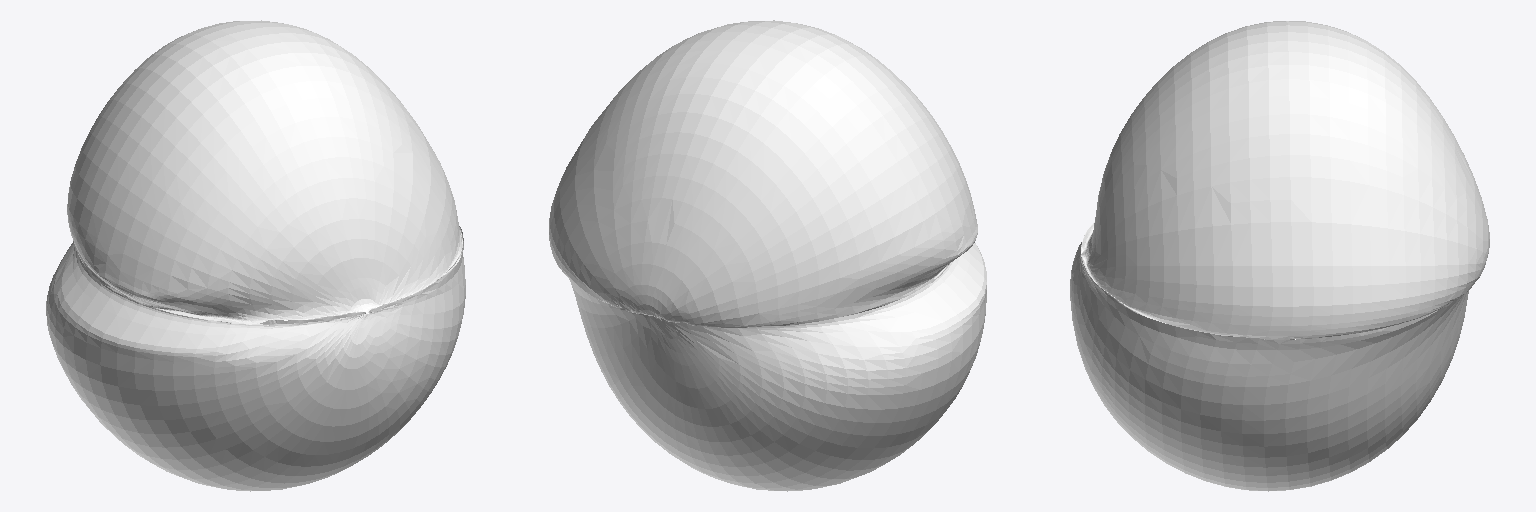
URDF robot description (Erliao2_urdf):
<?xml version="1.0" encoding="utf-8"?>
<!-- This URDF was automatically created by SolidWorks to URDF Exporter! Originally created by [author] ([email redacted]) 
     Commit Version: 1.6.0-4-g7f85cfe  Build Version: 1.6.7995.38578
     For more information, please see http://wiki.ros.org/sw_urdf_exporter -->
<robot
  name="Erliao2_urdf">
  <link
    name="base_link">
    <inertial>
      <origin
        xyz="0.00146957818292501 0.00170460324388878 0.0438837830836939"
        rpy="0 0 0" />
      <mass
        value="0.303977075897246" />
      <inertia
        ixx="0.000223188370243853"
        ixy="-1.67541298416823E-07"
        ixz="-4.80749580274744E-06"
        iyy="0.000231922682077781"
        iyz="-9.95508797710012E-06"
        izz="0.000192194307461853" />
    </inertial>
    <visual>
      <origin
        xyz="0 0 0"
        rpy="0 0 0" />
      <geometry>
        <mesh
          filename="package://Erliao2_urdf/meshes/base_link.STL" />
      </geometry>
      <material
        name="">
        <color
          rgba="1 1 1 1" />
      </material>
    </visual>
    <collision>
      <origin
        xyz="0 0 0"
        rpy="0 0 0" />
      <geometry>
        <mesh
          filename="package://Erliao2_urdf/meshes/base_link.STL" />
      </geometry>
    </collision>
  </link>
</robot>

--- Render facts (derived) ---
Views: 3 orthographic renders of the robot side by side, from view 1: azimuth 30°, elevation 25°; view 2: azimuth 150°, elevation 25°; view 3: azimuth 270°, elevation 25°.
Model Erliao2_urdf with 1 links and 0 joints (none), rooted at base_link, posed all joints at 0.
Links seen in each view (by area): view 1: base_link; view 2: base_link; view 3: base_link.
Link boxes in pixels (x1,y1,x2,y2): base_link: [46, 20, 465, 491]; base_link: [549, 20, 986, 491]; base_link: [1070, 21, 1489, 491].
Size in the robot's own frame: 0.0831 by 0.0805 by 0.0912 metres.
1 mesh visuals loaded from 1 distinct referenced files (1 binary STL).
